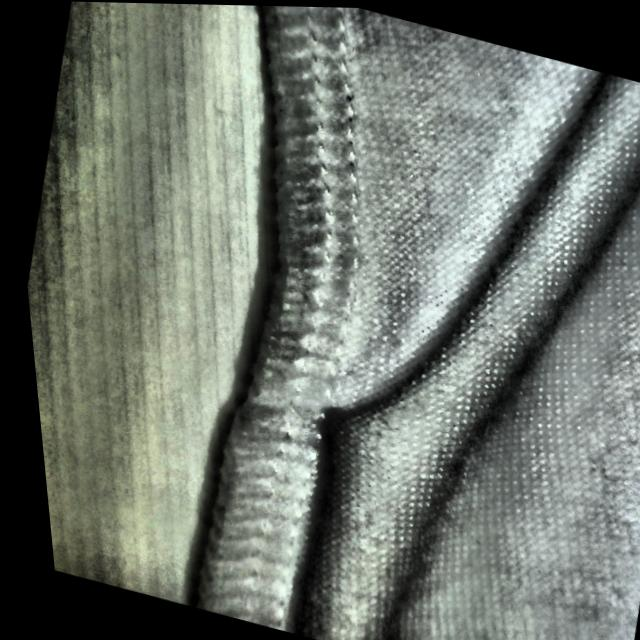seam: (176, 309, 473, 586)
